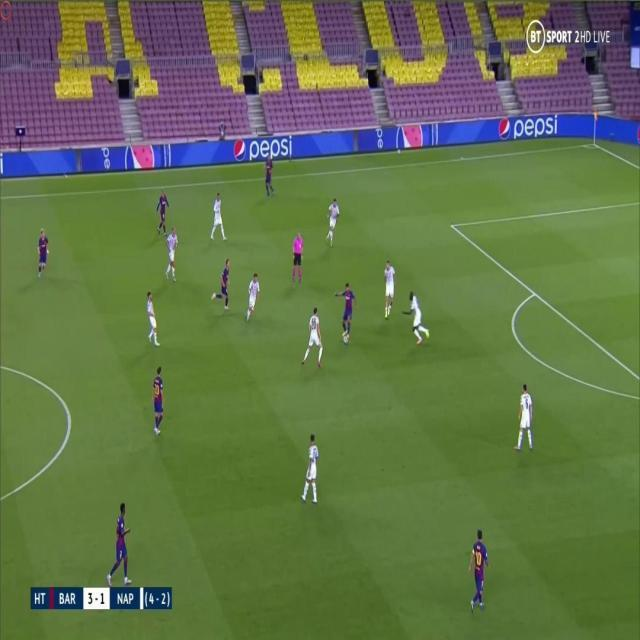ball: (341, 334, 349, 348)
player: (105, 502, 134, 587), (469, 527, 491, 613), (401, 291, 431, 346), (300, 309, 326, 371), (300, 430, 321, 506), (515, 385, 536, 456), (332, 283, 359, 336), (151, 363, 167, 441), (215, 255, 236, 314), (161, 229, 183, 285), (143, 291, 164, 349), (380, 261, 399, 320), (211, 193, 229, 246), (34, 227, 51, 282), (324, 198, 341, 248), (154, 192, 171, 238), (261, 155, 279, 198), (247, 275, 261, 324)
referee: (291, 232, 305, 286)
